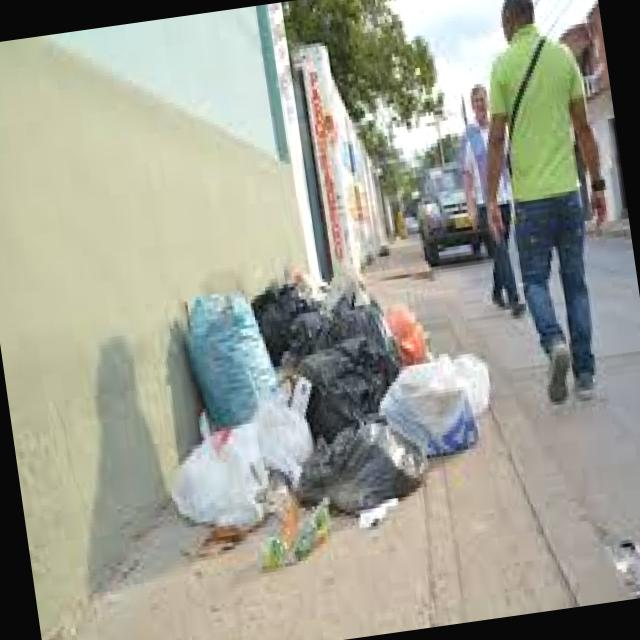garbage: (124, 231, 516, 592)
